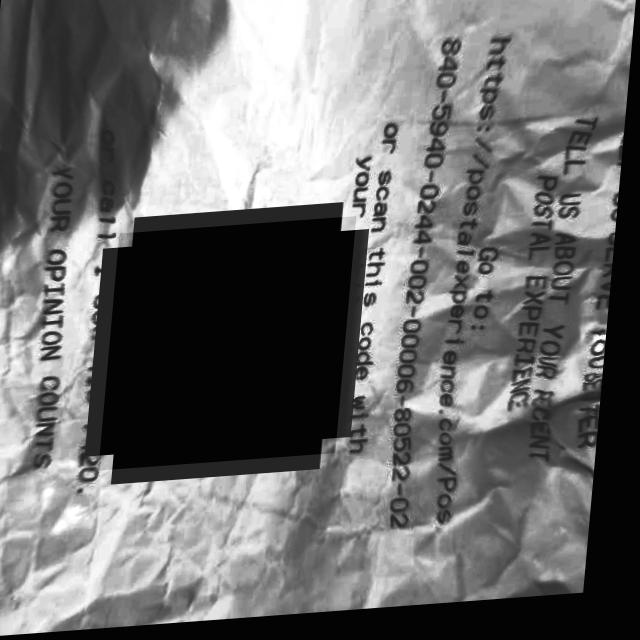qr_code: (106, 222, 360, 473)
